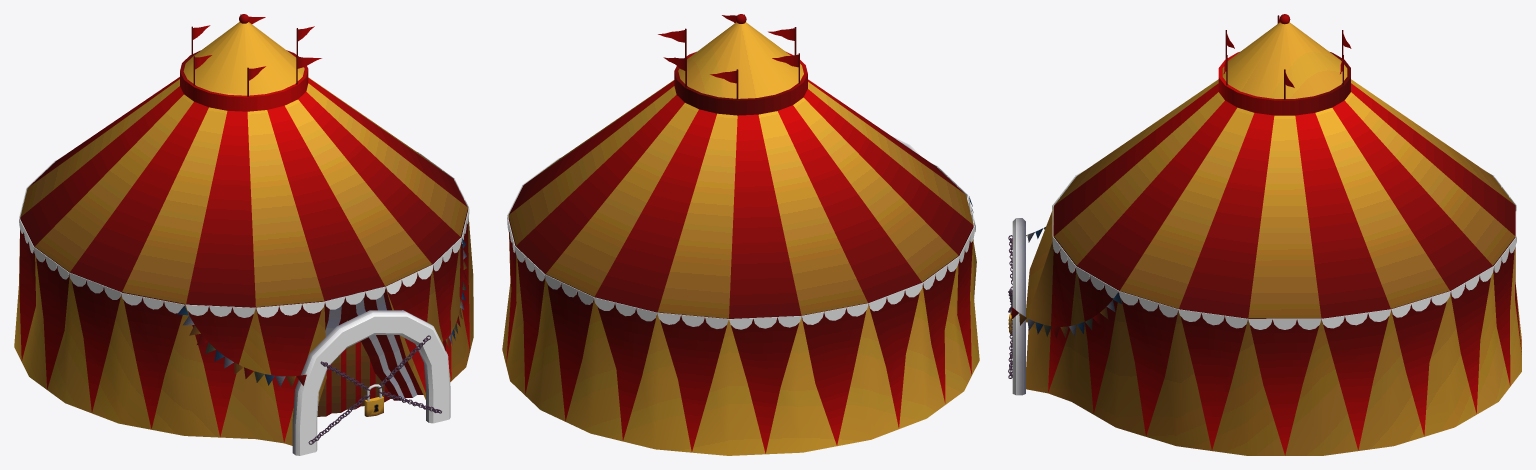
The model's file is SM_Circus_Tent (3).fbx.
3 views of the same model, side by side, from view 1: azimuth 30°, elevation 25°; view 2: azimuth 150°, elevation 25°; view 3: azimuth 270°, elevation 25° (orthographic). The views are drawn at different scales.
Parts seen in each view (by area): view 1: Circus_Tent_Export, Back_Curtain, Chain_Link; view 2: Circus_Tent_Export; view 3: Circus_Tent_Export.
Boxes of the visible parts, x1=… form: Circus_Tent_Export: x1=14, y1=14, x2=473, y2=455; Back_Curtain: x1=317, y1=320, x2=391, y2=416; Chain_Link: x1=308, y1=335, x2=441, y2=444; Circus_Tent_Export: x1=502, y1=14, x2=979, y2=455; Circus_Tent_Export: x1=1011, y1=14, x2=1521, y2=455.
Bounding box in the file's own units: 1832 × 1457 × 1988.
